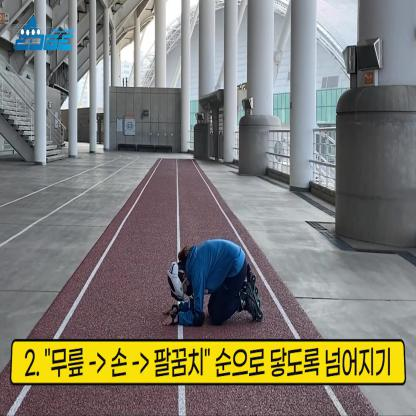Fall_Down: (160, 240, 261, 327)
